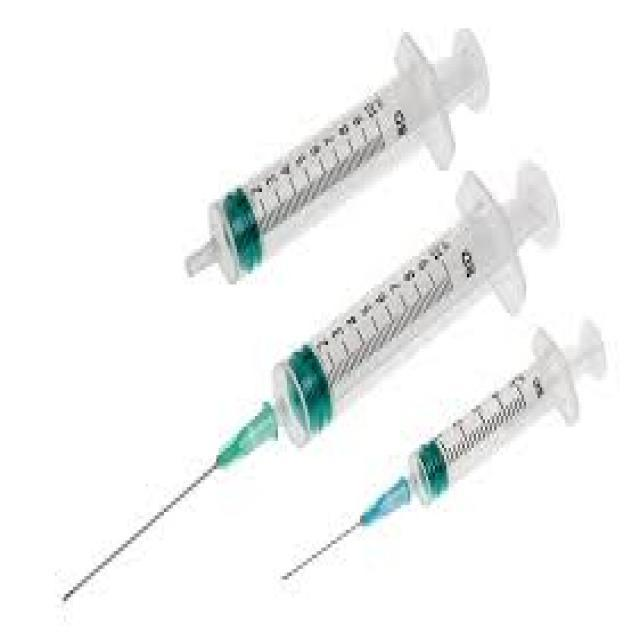syringe: (76, 77, 582, 626)
